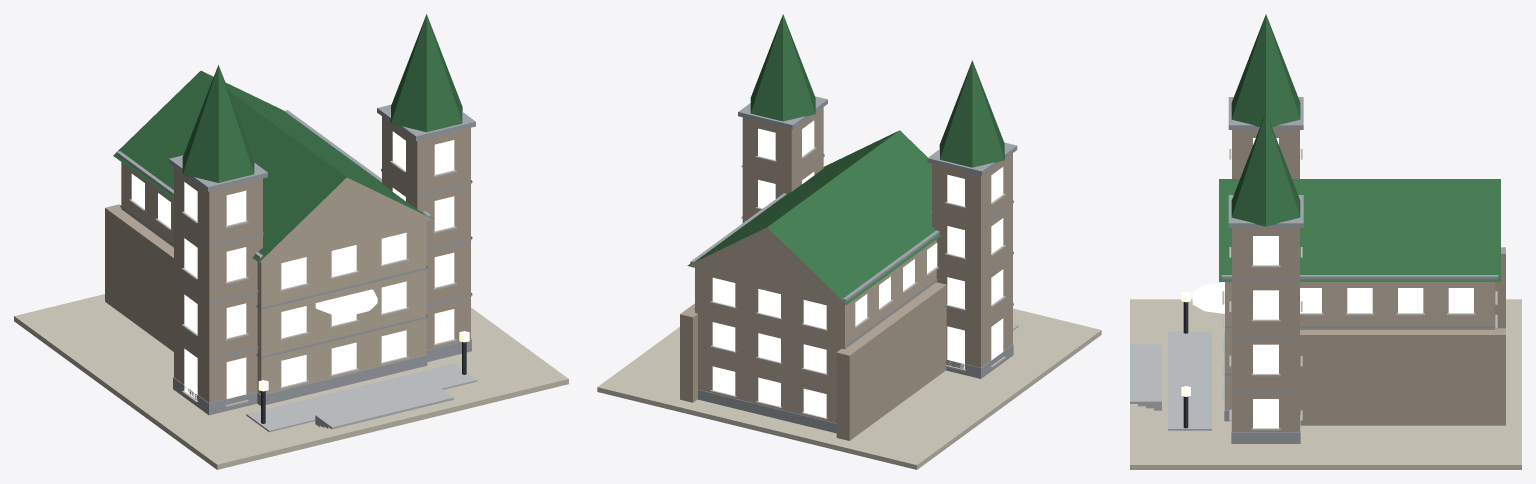
File: landmark_cathedral.glb
3 renders of one model, left to right at view 1: azimuth 30°, elevation 25°; view 2: azimuth 150°, elevation 25°; view 3: azimuth 270°, elevation 25°, orthographic. The views are drawn at different scales.
Visible parts, largest first — view 1: landmark_cathedral; view 2: landmark_cathedral; view 3: landmark_cathedral.
Part boxes in pixels (<box>): landmark_cathedral: <box>14,14,568,469</box>; landmark_cathedral: <box>597,14,1101,469</box>; landmark_cathedral: <box>1130,14,1521,469</box>.
Size of the model in its own units: 1.96 by 1.79 by 1.96.
